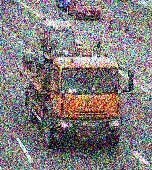truck: (18, 18, 133, 148)
